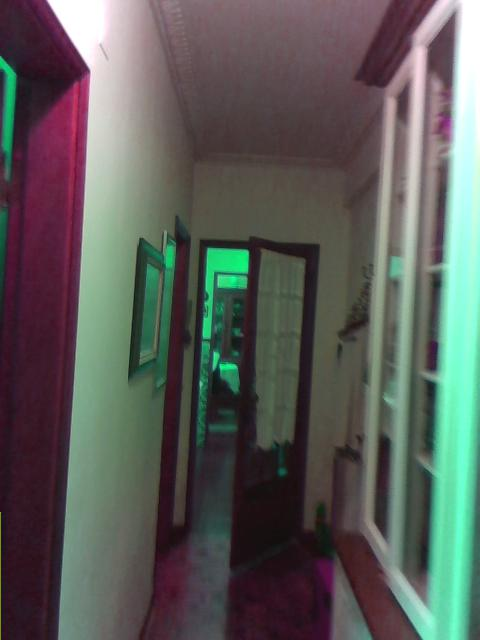semi_door: (184, 233, 319, 570)
